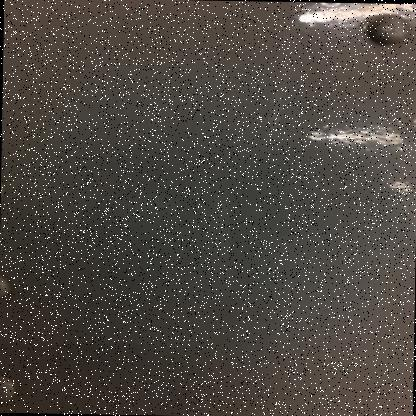Nocrack: (7, 10, 415, 415)
